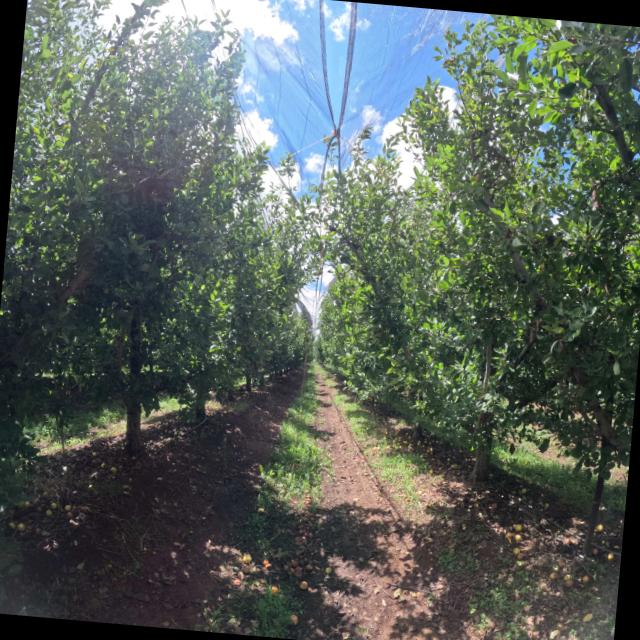-FireBlight-: (96, 144, 190, 213)
